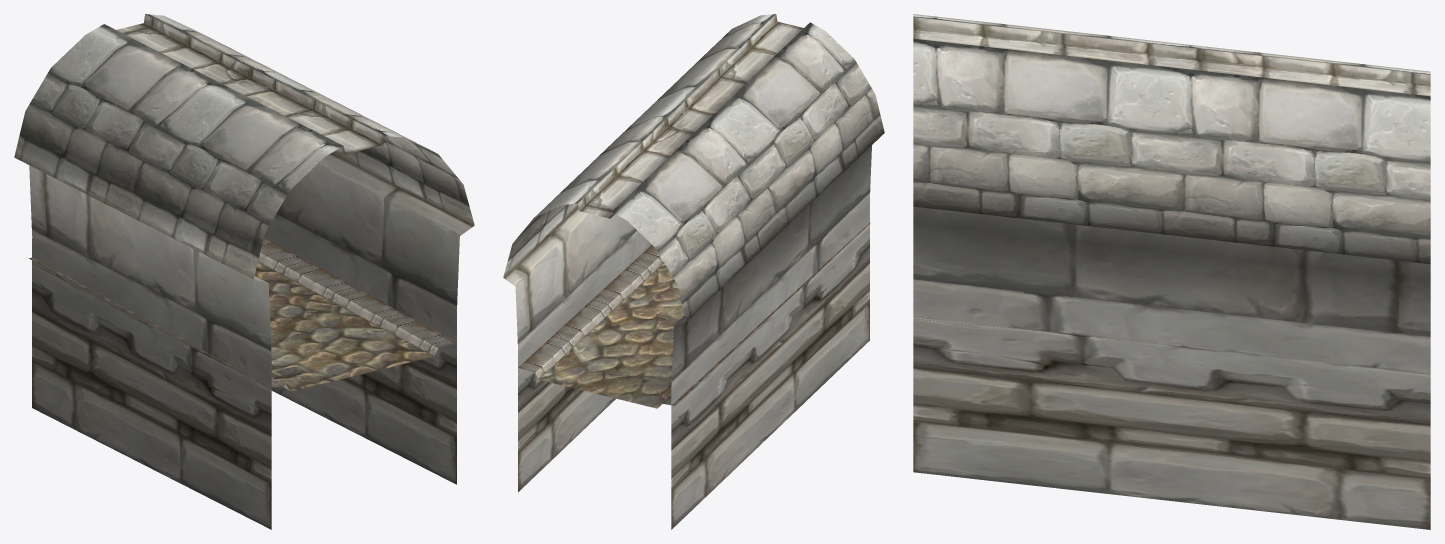
File: stormwind_026.fbx
3 renders of one model, left to right at view 1: azimuth 30°, elevation 25°; view 2: azimuth 150°, elevation 25°; view 3: azimuth 270°, elevation 25°, orthographic. The views are drawn at different scales.
Parts seen in each view (by area): view 1: stormwind_026_11, stormwind_026_4, stormwind_026_46, stormwind_026_5, stormwind_026_12; view 2: stormwind_026_11, stormwind_026_4, stormwind_026_46, stormwind_026_5, stormwind_026_12; view 3: stormwind_026_11, stormwind_026_4, stormwind_026_5.
Part boxes in pixels (bbox=[...]): stormwind_026_11: bbox=[29, 153, 474, 529]; stormwind_026_4: bbox=[14, 14, 474, 279]; stormwind_026_46: bbox=[254, 262, 433, 391]; stormwind_026_5: bbox=[116, 14, 384, 154]; stormwind_026_12: bbox=[29, 238, 456, 390]; stormwind_026_11: bbox=[503, 145, 871, 529]; stormwind_026_4: bbox=[503, 14, 884, 321]; stormwind_026_46: bbox=[539, 263, 684, 408]; stormwind_026_5: bbox=[578, 14, 803, 218]; stormwind_026_12: bbox=[518, 222, 870, 407]; stormwind_026_11: bbox=[913, 206, 1430, 529]; stormwind_026_4: bbox=[913, 14, 1430, 264]; stormwind_026_5: bbox=[913, 17, 1430, 96].
Size of the model in its own units: 10.07 by 18.28 by 18.9.
